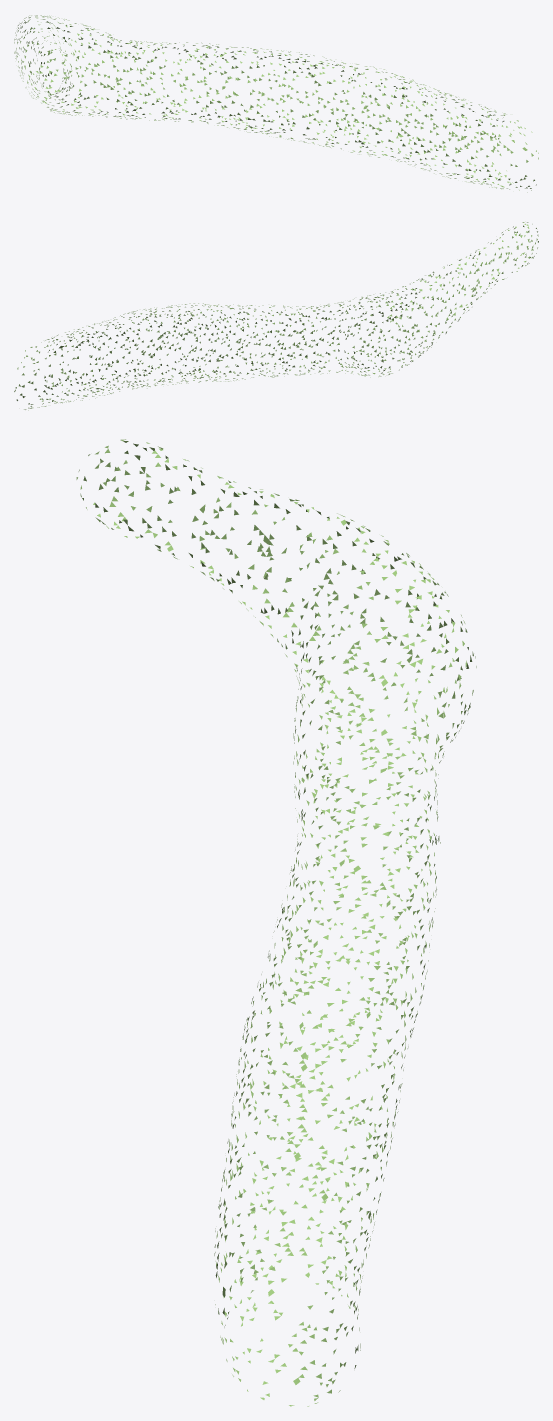
The model's file is morph_013.glb.
3 renders of one model, top to bottom at view 1: azimuth 30°, elevation 25°; view 2: azimuth 150°, elevation 25°; view 3: azimuth 270°, elevation 25°, orthographic. The views are drawn at different scales.
Size of the model in its own units: 119 by 65.13 by 44.69.
